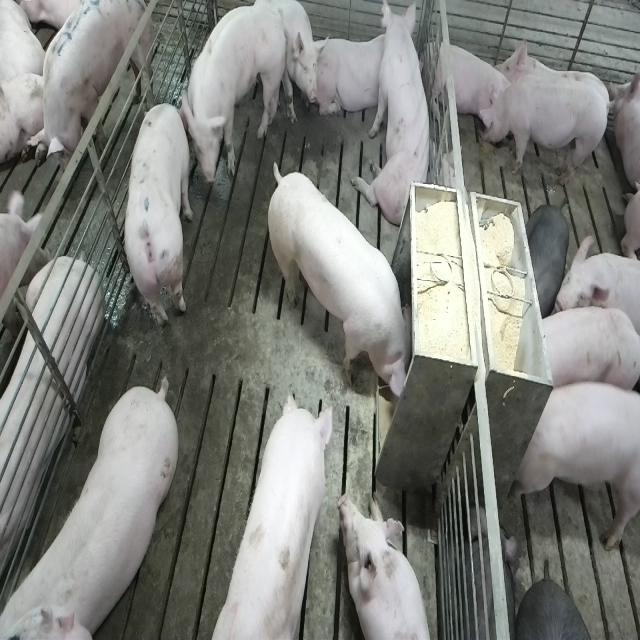Feeding: (271, 161, 421, 405)
Sitting: (356, 4, 436, 234), (254, 1, 322, 133)
Standing: (6, 374, 184, 636), (195, 394, 339, 640), (23, 0, 152, 190), (514, 381, 638, 550), (122, 96, 196, 332), (481, 78, 613, 186), (536, 306, 640, 399)
Sternal_lying: (0, 251, 101, 591), (342, 492, 436, 640), (429, 37, 507, 131), (315, 31, 393, 122)
